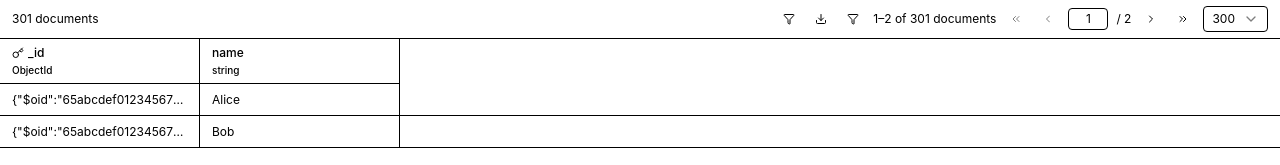
Scenario: DocumentDataGrid refetch overlay (sprint-176) › [AC-176-04] spinner DOM (classes, size, position) is unchanged
The width and height of the screenshot is (1280, 165).
Expected: the text "Alice" is shown, [212,92,240,108]
Click the button named "Next page" at (1151, 19), box [1139,7,1163,31]
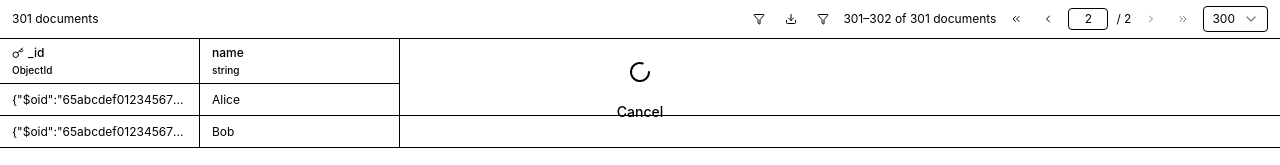
Expected: the icon with class "animate-spin" is shown, [628,60,652,84]
